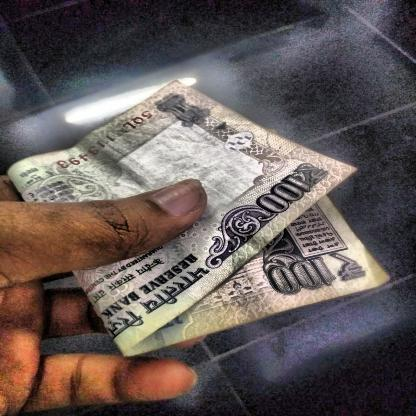Rs100: (259, 245, 373, 302), (246, 157, 335, 219)
